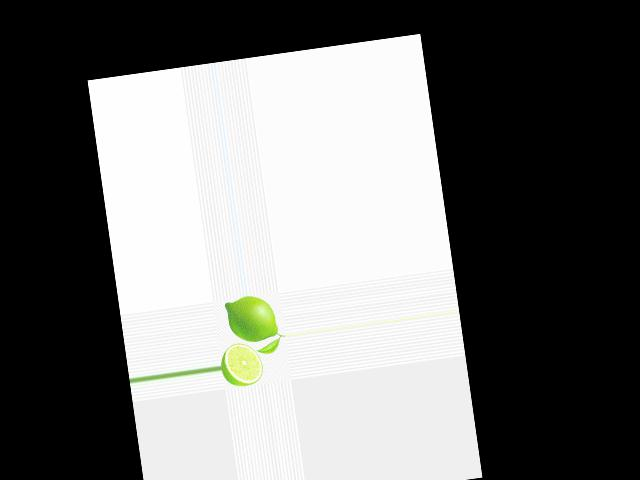lemon: (222, 294, 280, 347)
